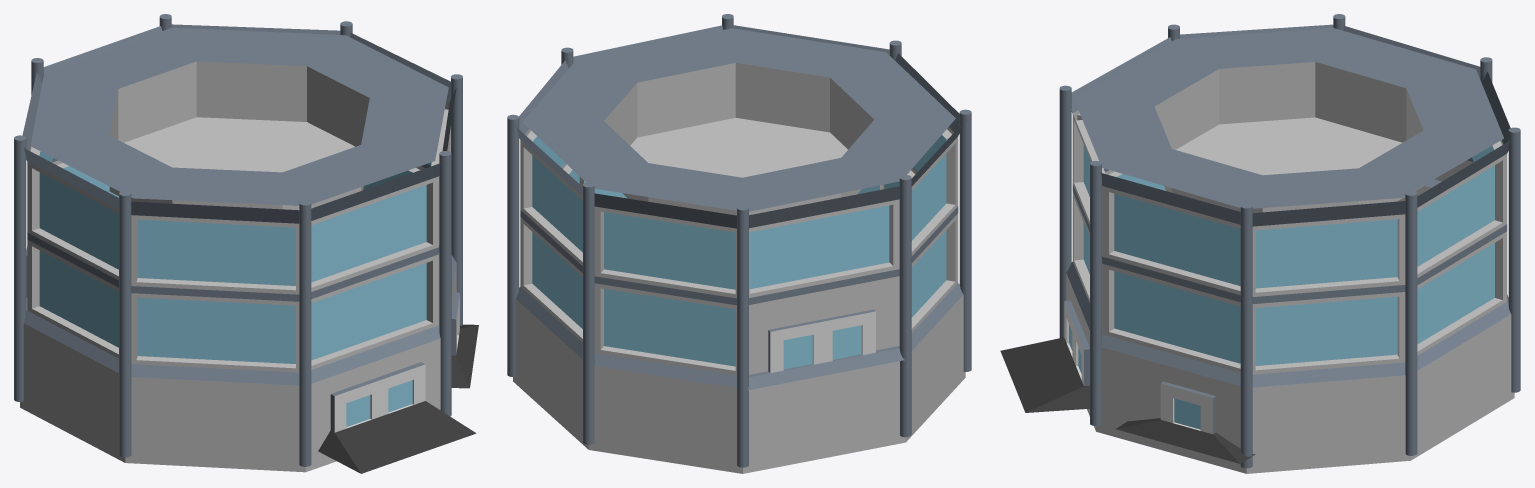
3 renders of one model, left to right at view 1: azimuth 30°, elevation 25°; view 2: azimuth 150°, elevation 25°; view 3: azimuth 270°, elevation 25°, orthographic.
Parts seen in each view (by area): view 1: Cube, Cube.002, Cube.001, Cube.003; view 2: Cube, Cube.005, Cube.004; view 3: Cube, Cube.003, Cube.001, Cube.002.
Part boxes in pixels (left/top/right/bottom): Cube: left=14, top=14, right=462, bottom=472; Cube.002: left=318, top=377, right=414, bottom=473; Cube.001: left=377, top=362, right=476, bottom=454; Cube.003: left=451, top=292, right=478, bottom=388; Cube: left=507, top=14, right=971, bottom=473; Cube.005: left=819, top=309, right=875, bottom=363; Cube.004: left=768, top=319, right=826, bottom=373; Cube: left=1059, top=14, right=1520, bottom=473; Cube.003: left=1115, top=381, right=1255, bottom=463; Cube.001: left=1012, top=323, right=1089, bottom=412; Cube.002: left=1000, top=300, right=1079, bottom=379.
Size of the model in its own units: 70.75 by 44.14 by 77.37.
